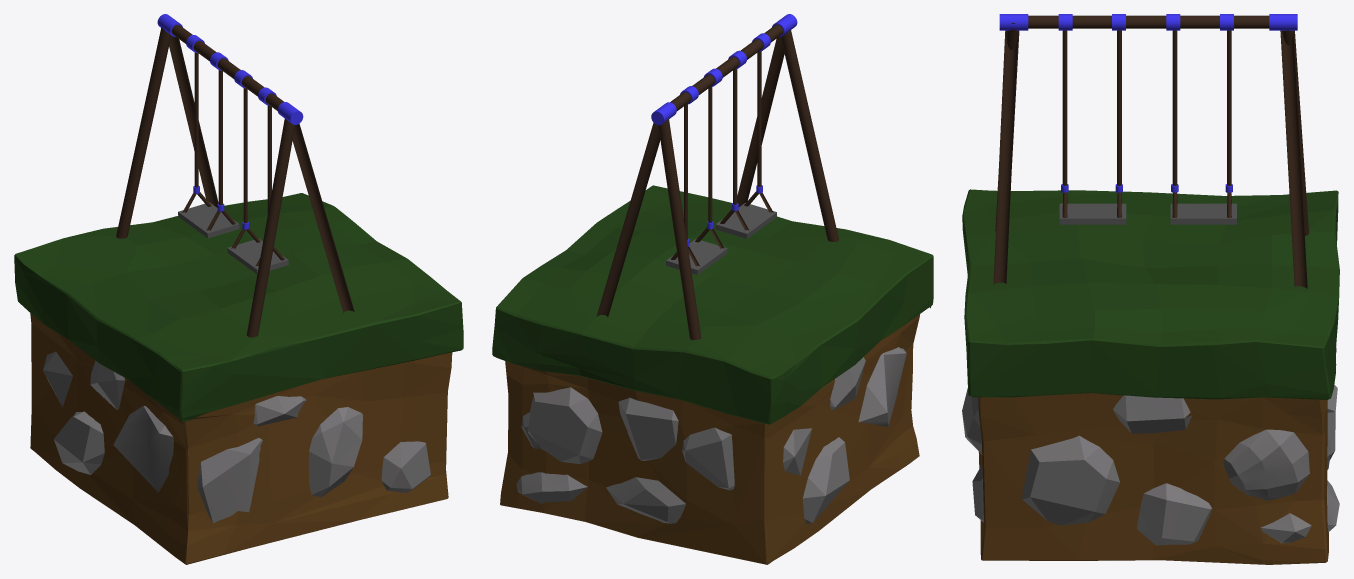
File: tile_swings.gltf
3 renders of one model, left to right at view 1: azimuth 30°, elevation 25°; view 2: azimuth 150°, elevation 25°; view 3: azimuth 270°, elevation 25°, orthographic. The views are drawn at different scales.
Visible parts, largest first — view 1: hill.003, Cylinder.005; view 2: hill.003, Cylinder.005; view 3: hill.003, Cylinder.005.
Part boxes in pixels (x1,y1,x2,y2): hill.003: (14, 193, 463, 564); Cylinder.005: (116, 14, 354, 337); hill.003: (492, 185, 933, 564); Cylinder.005: (596, 14, 838, 339); hill.003: (962, 189, 1339, 564); Cylinder.005: (993, 14, 1308, 288).
Size of the model in its own units: 1.1 by 1.51 by 1.09.
